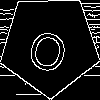O: (24, 20, 73, 76)
